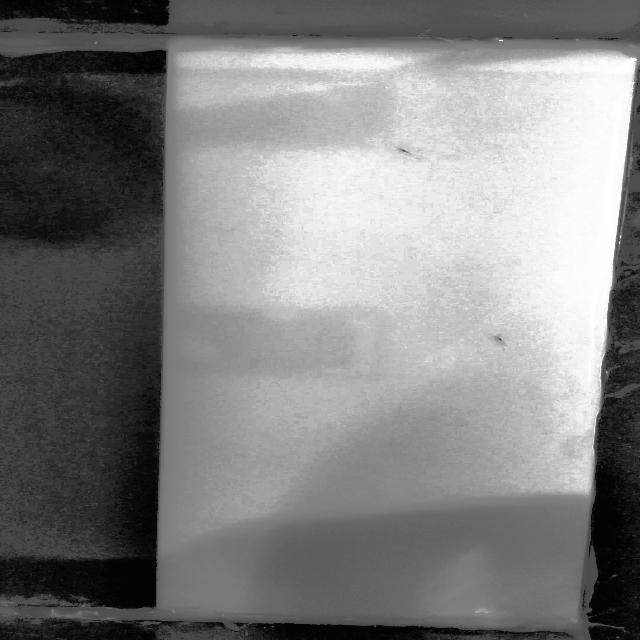shrimp: (396, 145, 420, 161), (493, 332, 512, 349)
